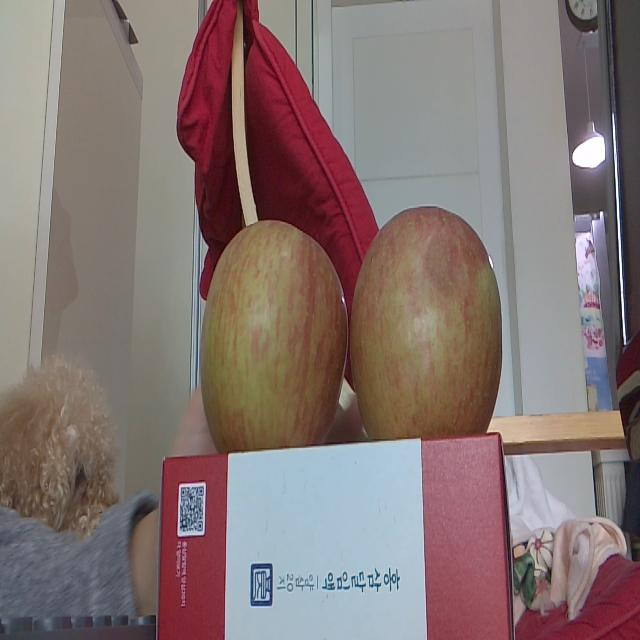apple: (351, 200, 508, 437), (197, 212, 349, 451)
